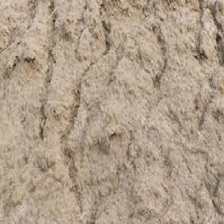clay_soil: (5, 22, 219, 209)
